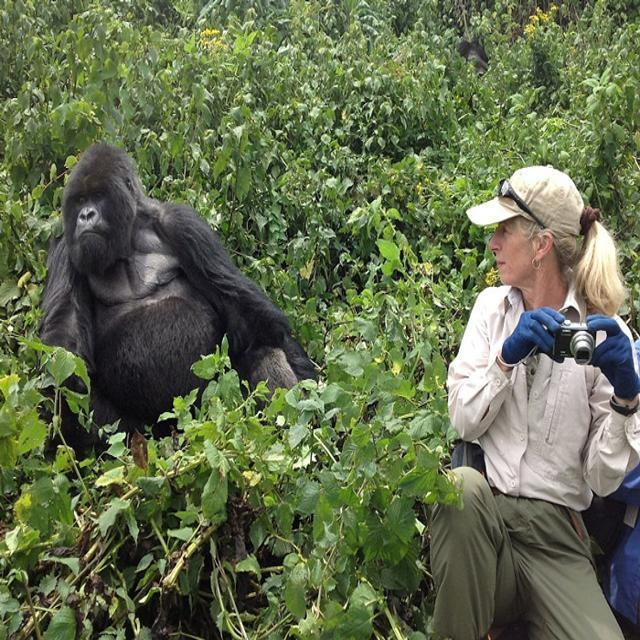Gorilla: (11, 107, 332, 466)
